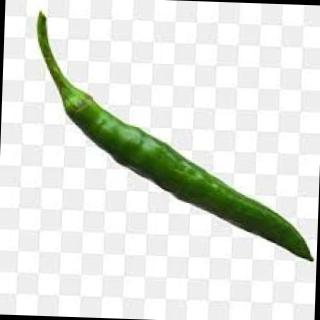Cabai Hijau: (35, 12, 314, 262)
